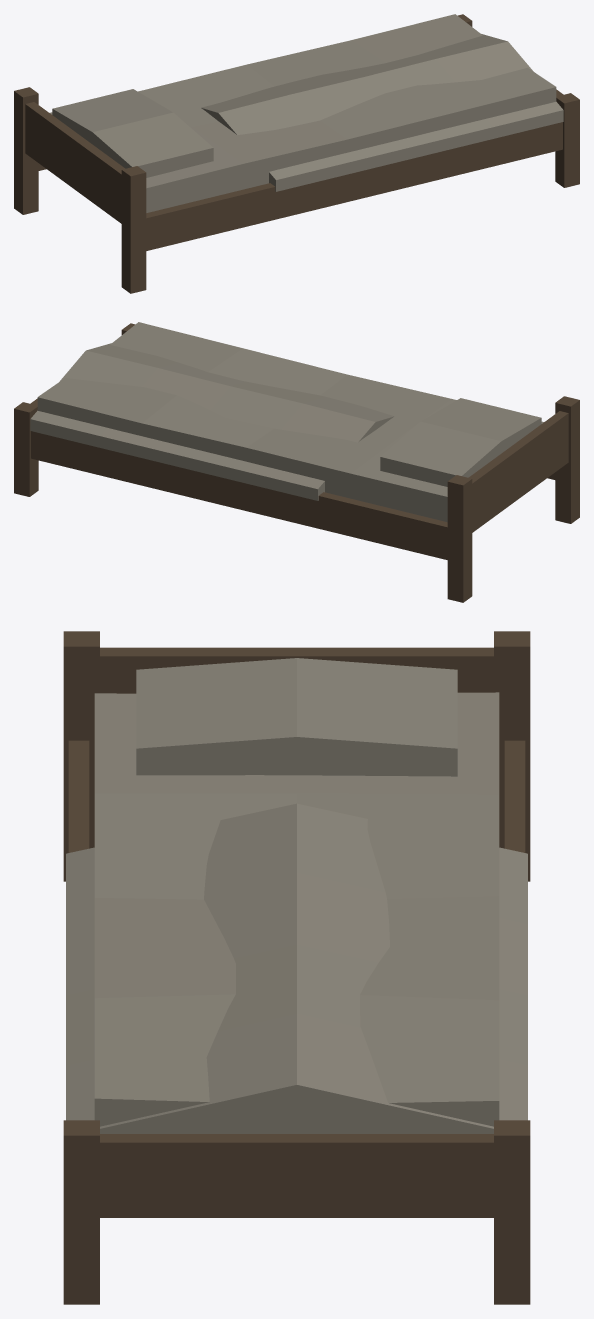
File: bed.glb
The picture shows the model from 3 angles, top to bottom: view 1: azimuth 30°, elevation 25°; view 2: azimuth 150°, elevation 25°; view 3: azimuth 270°, elevation 25°; orthographic projection. The views are drawn at different scales.
Visible parts, largest first — view 1: BedMesh; view 2: BedMesh; view 3: BedMesh.
Boxes of the visible parts, x1,y1,x2,y2 form: BedMesh: [14, 14, 579, 293]; BedMesh: [14, 322, 579, 602]; BedMesh: [63, 631, 530, 1304].
Bounding box in the file's own units: 2 × 0.5 × 0.9.
